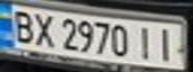0: (109, 21, 133, 59)
2: (54, 16, 78, 52)
7: (90, 19, 112, 56)
9: (75, 18, 96, 54)
B: (6, 8, 39, 44)
I: (151, 25, 181, 62), (133, 24, 160, 61)
X: (30, 11, 57, 48)
